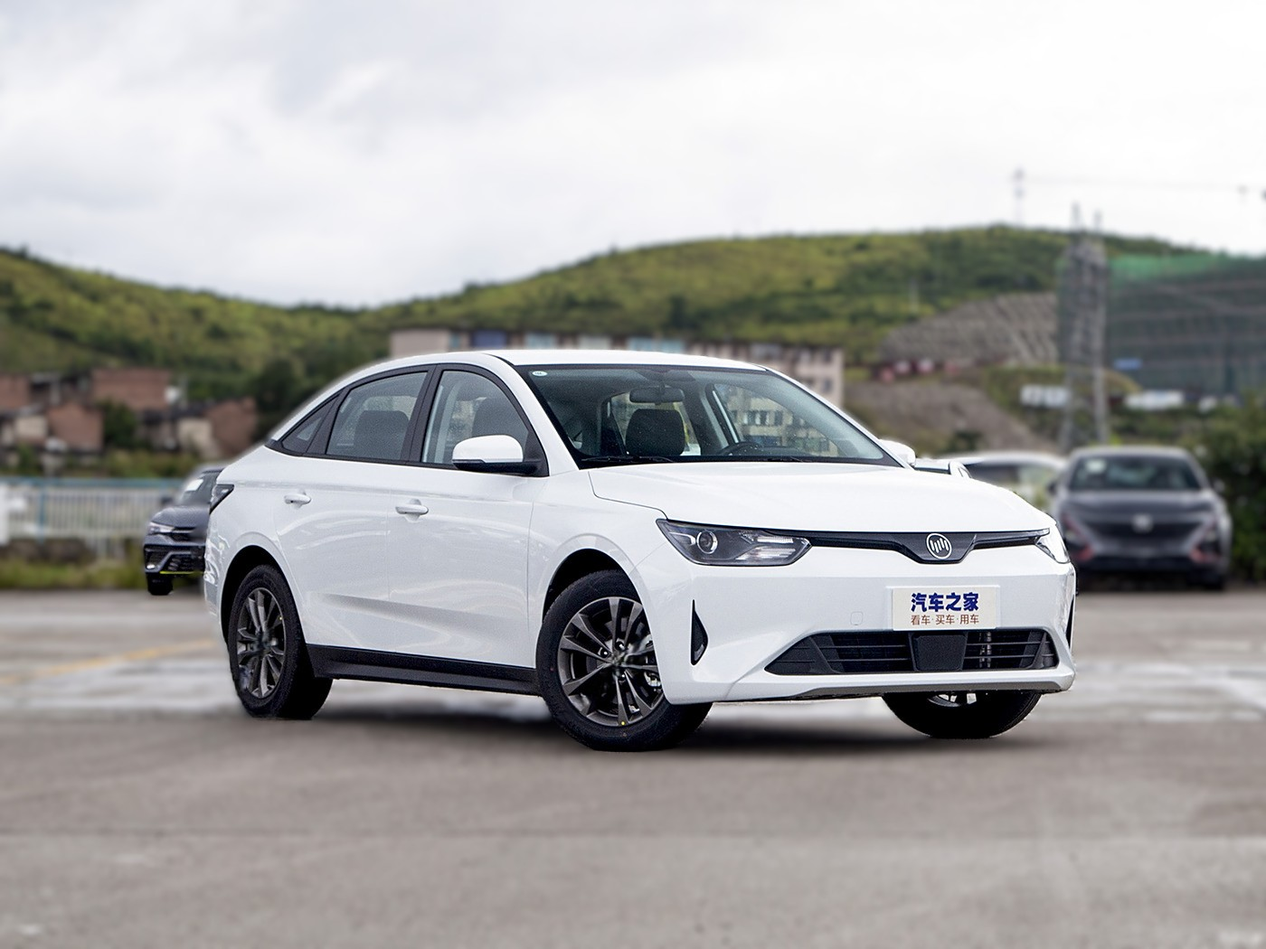WELTMEISTER: (927, 534, 951, 559)
